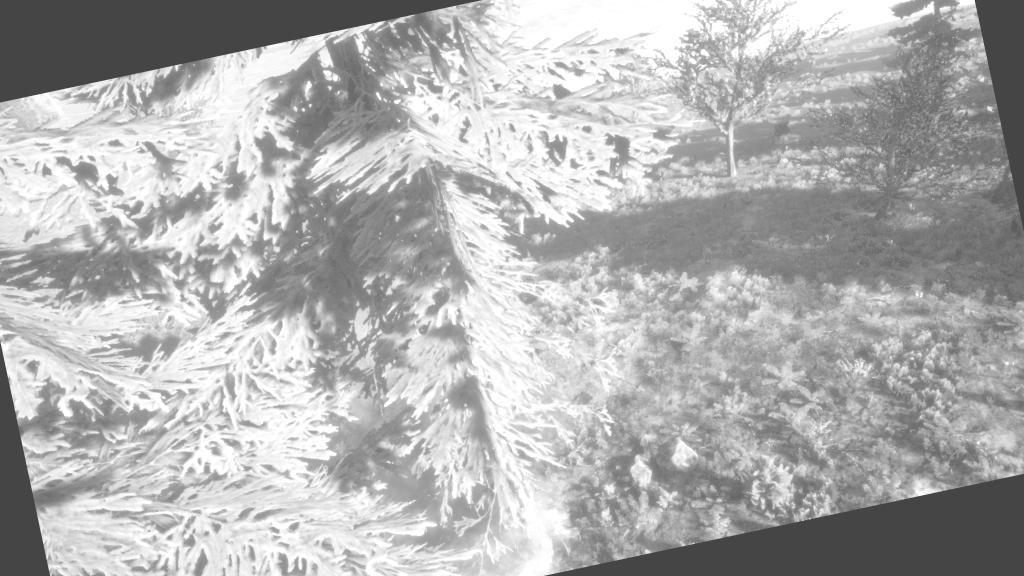Fire: (430, 450, 589, 575)
